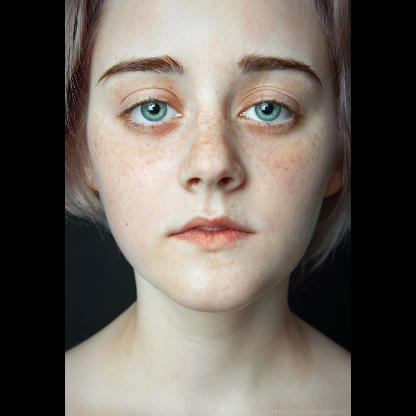Female: (77, 0, 346, 312)
